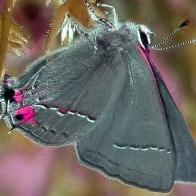butterfly: (0, 22, 196, 193)
